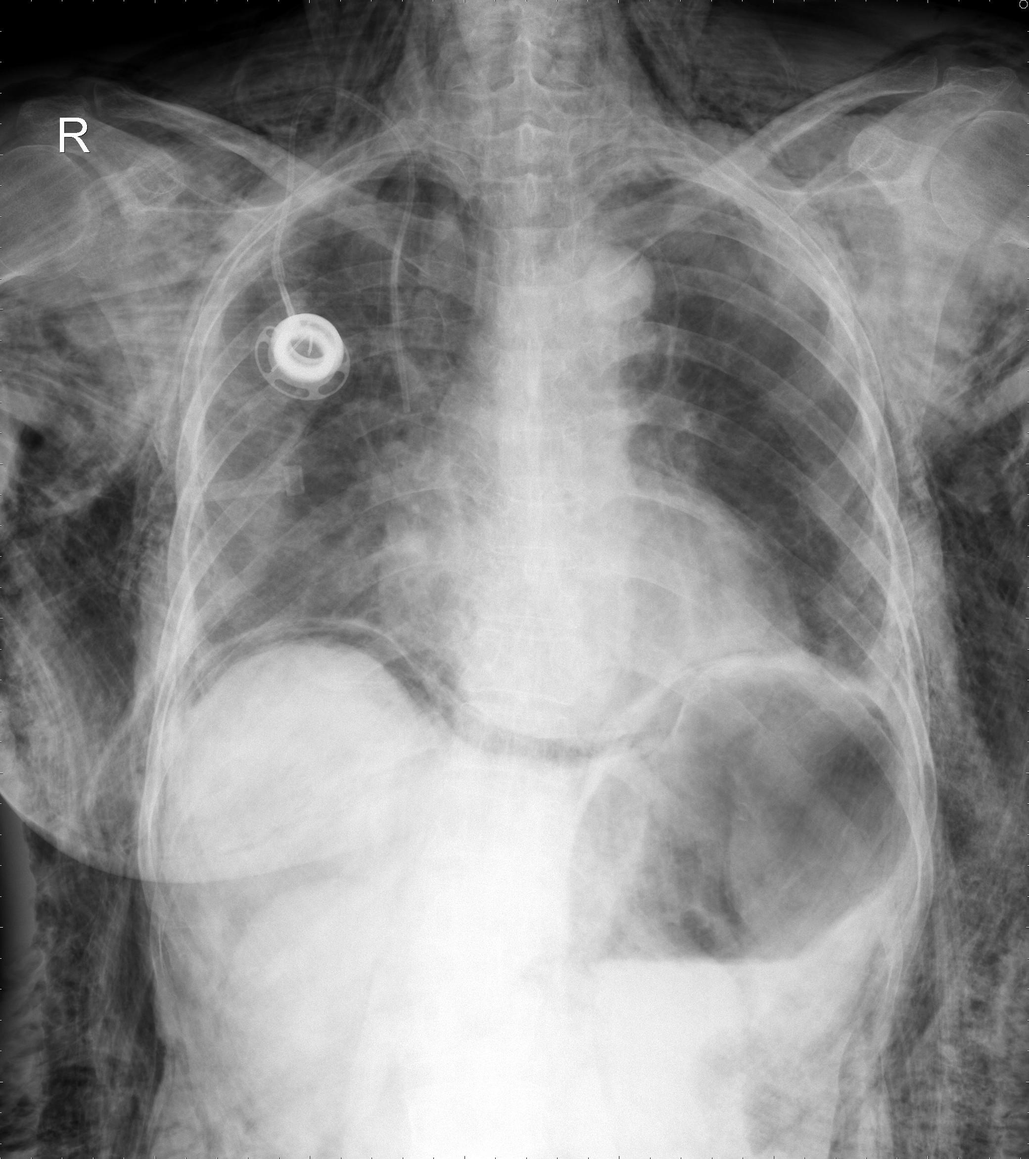Cardiomegaly: (372, 554, 810, 674)
